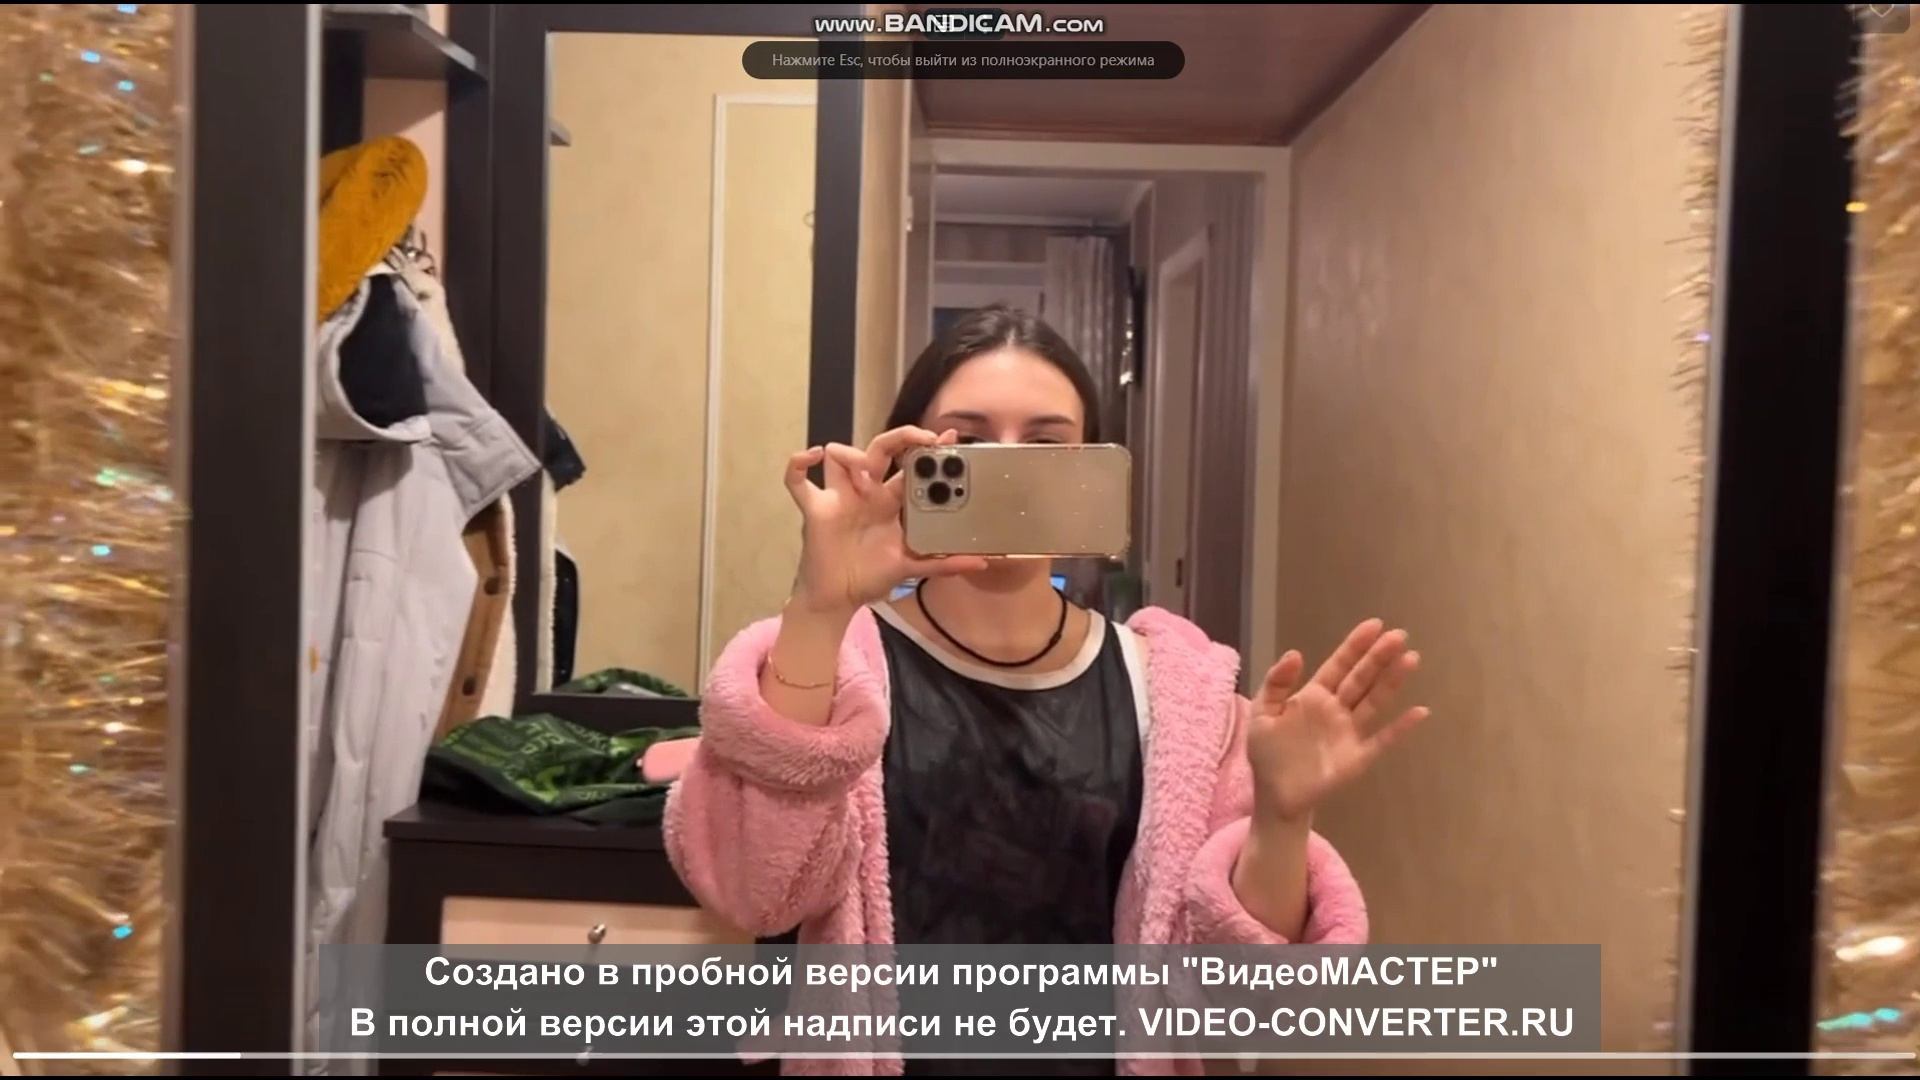Ладонь: (1246, 615, 1435, 818)
